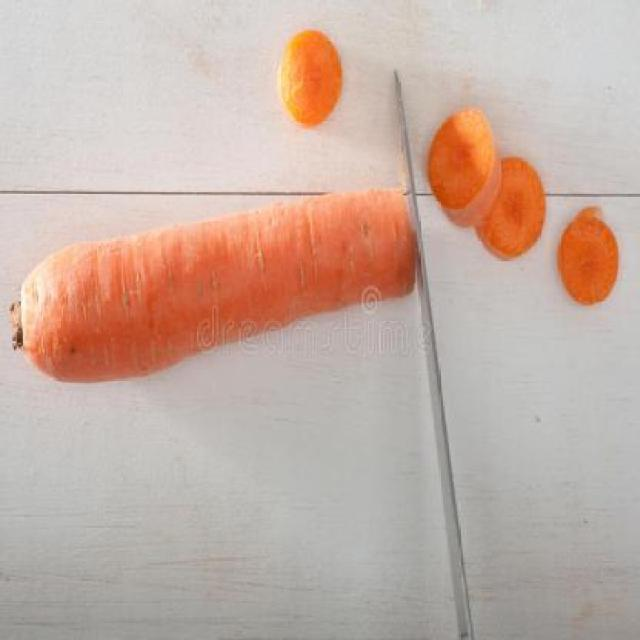carrot: (9, 184, 425, 388)
